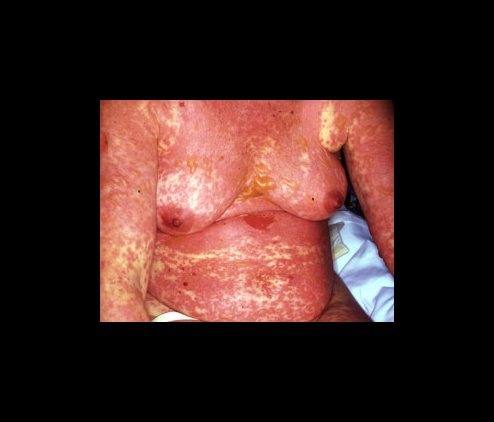SJS-TEN: (99, 100, 400, 324)
